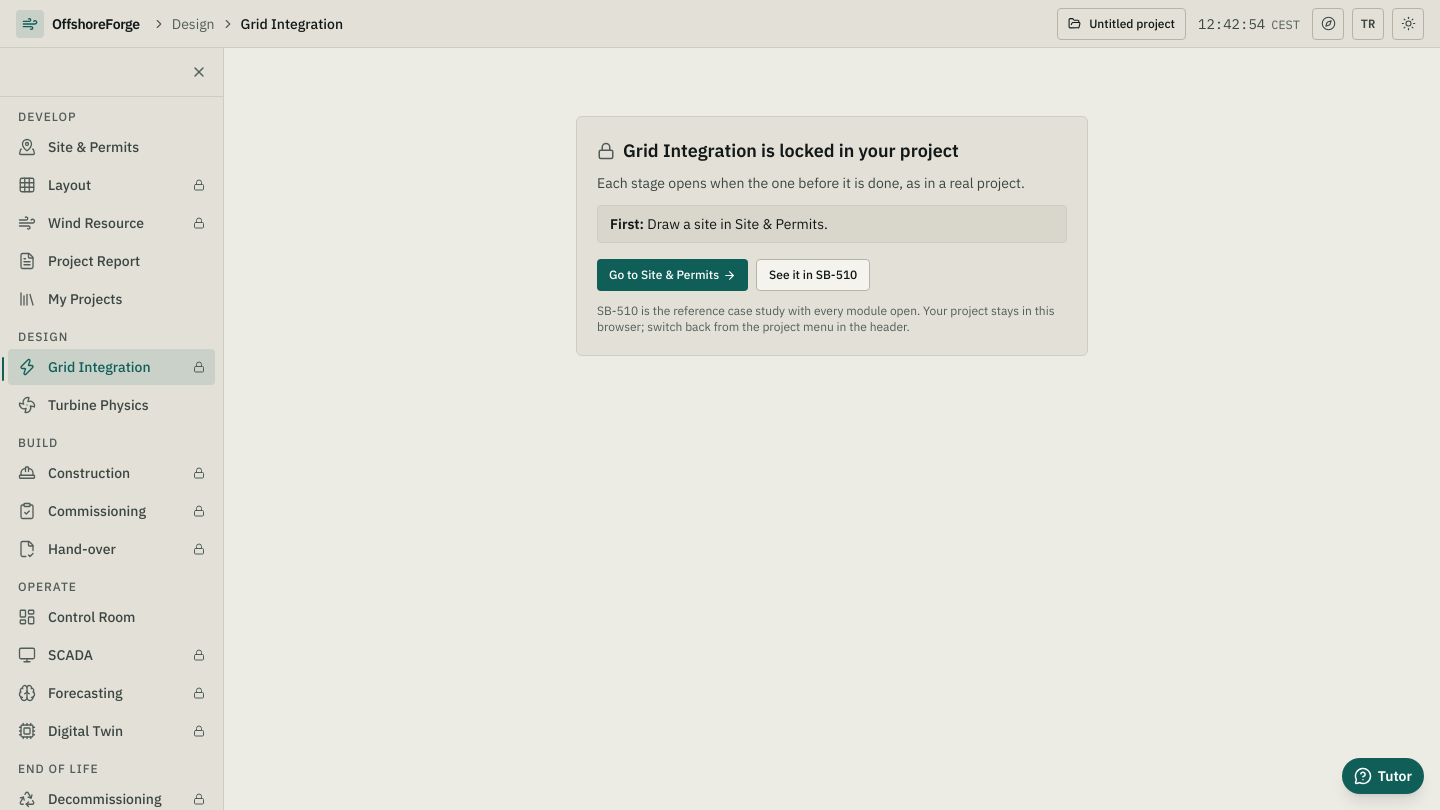
Test: project mode › locks a module the own project has not reached and lets the learner see it in SB-510
Expected: the text "grid page" is not shown
Expected: the heading "Grid Integration is locked in your project" is shown, [597,139,959,162]
Click the button "See it in SB-510": (813, 275) [756,259,870,291]
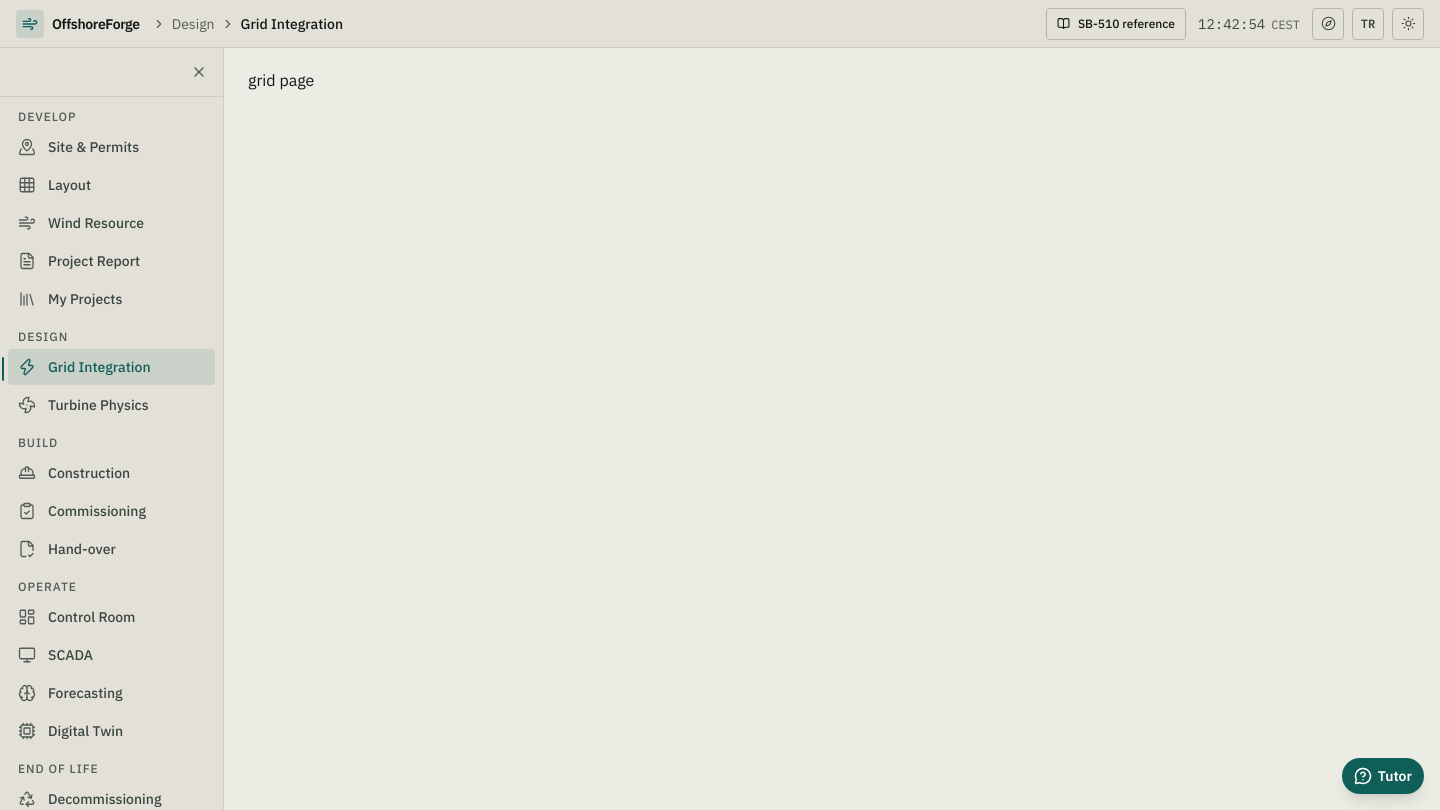
Expected: the text "grid page" is shown, [248,70,314,90]
